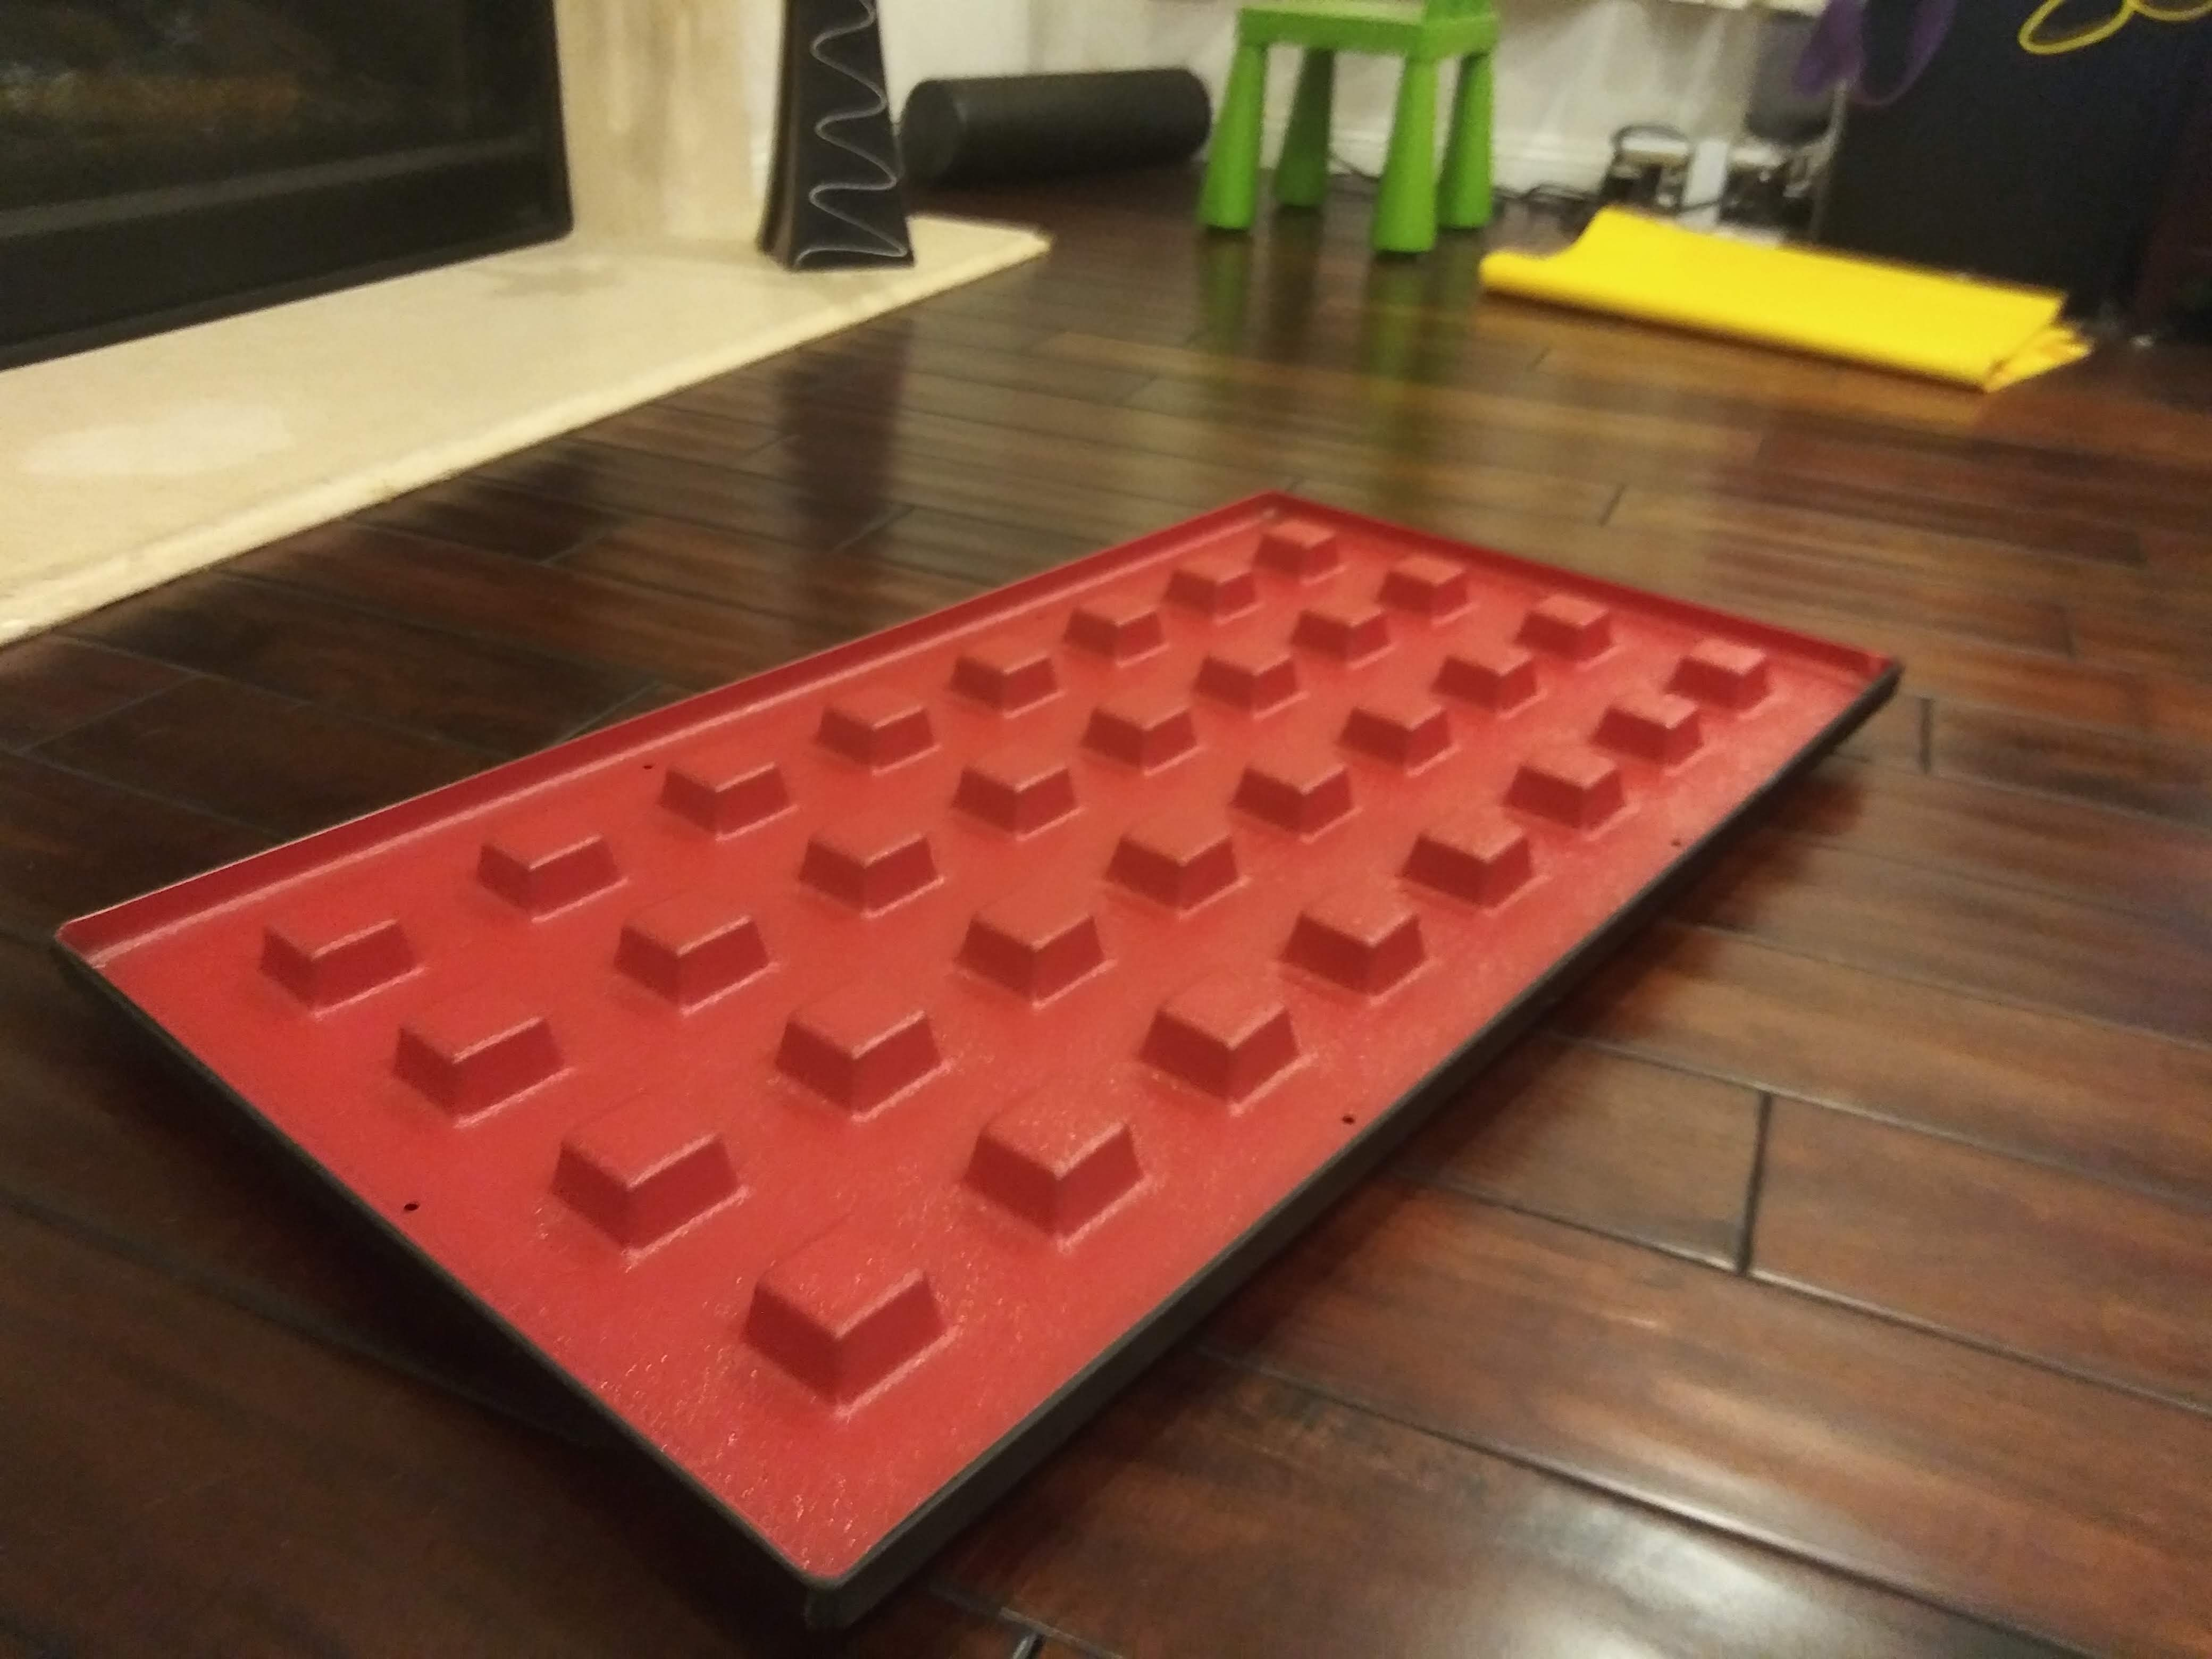red foundation: (38, 467, 1989, 1514)
